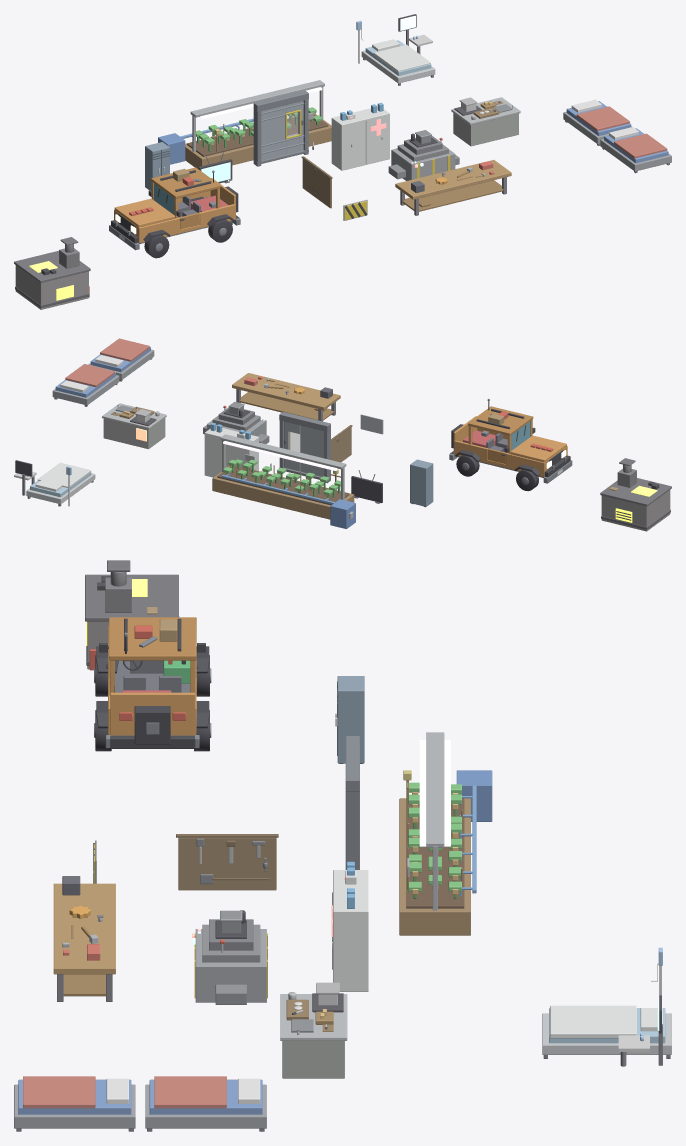
File: машина.glb
The picture shows the model from 3 angles, top to bottom: view 1: azimuth 30°, elevation 25°; view 2: azimuth 150°, elevation 25°; view 3: azimuth 270°, elevation 25°; orthographic projection. The views are drawn at different scales.
Parts seen in each view (by area): view 1: PartCabin_Mesh, койки, печь, верстак, аптечный_шкаф, кухня, кушетка, грядка, измельчитель, GateLeaf_Mesh, ворота, Lamp_Mesh (+8 smaller); view 2: PartCabin_Mesh, печь, койки, грядка, верстак, кухня, кушетка, аптечный_шкаф, Lamp_Mesh, Plants_Mesh, GateLeaf_Mesh, измельчитель (+10 smaller); view 3: койки, PartCabin_Mesh, верстак, измельчитель, кушетка, грядка, кухня, доска_инструментов, печь, аптечный_шкаф, Lamp_Mesh, PartWheels_Mesh (+5 smaller).
Part boxes in pixels (<box>): PartCabin_Mesh: <box>109,167,240,250</box>; койки: <box>563,99,671,173</box>; печь: <box>14,237,90,309</box>; верстак: <box>395,160,511,215</box>; аптечный_шкаф: <box>331,102,389,170</box>; кухня: <box>451,97,520,146</box>; кушетка: <box>356,14,435,85</box>; грядка: <box>185,112,331,168</box>; измельчитель: <box>388,130,459,180</box>; GateLeaf_Mesh: <box>261,100,304,160</box>; ворота: <box>253,90,308,166</box>; Lamp_Mesh: <box>190,80,324,151</box>; PartCabin_Mesh: <box>449,406,572,483</box>; печь: <box>600,458,671,531</box>; койки: <box>52,338,154,406</box>; грядка: <box>212,454,354,519</box>; верстак: <box>232,373,340,421</box>; кухня: <box>102,403,166,449</box>; кушетка: <box>15,460,95,506</box>; аптечный_шкаф: <box>204,422,258,477</box>; Lamp_Mesh: <box>220,434,346,499</box>; Plants_Mesh: <box>223,459,340,500</box>; GateLeaf_Mesh: <box>284,421,323,476</box>; измельчитель: <box>203,401,269,443</box>; койки: <box>14,1076,266,1131</box>; PartCabin_Mesh: <box>99,617,205,748</box>; верстак: <box>53,876,115,1001</box>; измельчитель: <box>192,910,267,1004</box>; кушетка: <box>542,947,671,1065</box>; грядка: <box>399,770,470,935</box>; кухня: <box>280,982,347,1078</box>; доска_инструментов: <box>176,834,278,890</box>; печь: <box>85,560,179,670</box>; аптечный_шкаф: <box>331,861,368,991</box>; Lamp_Mesh: <box>419,732,450,910</box>; PartWheels_Mesh: <box>94,646,211,751</box>.
Size of the model in its own units: 27.85 by 3.87 by 14.72.
